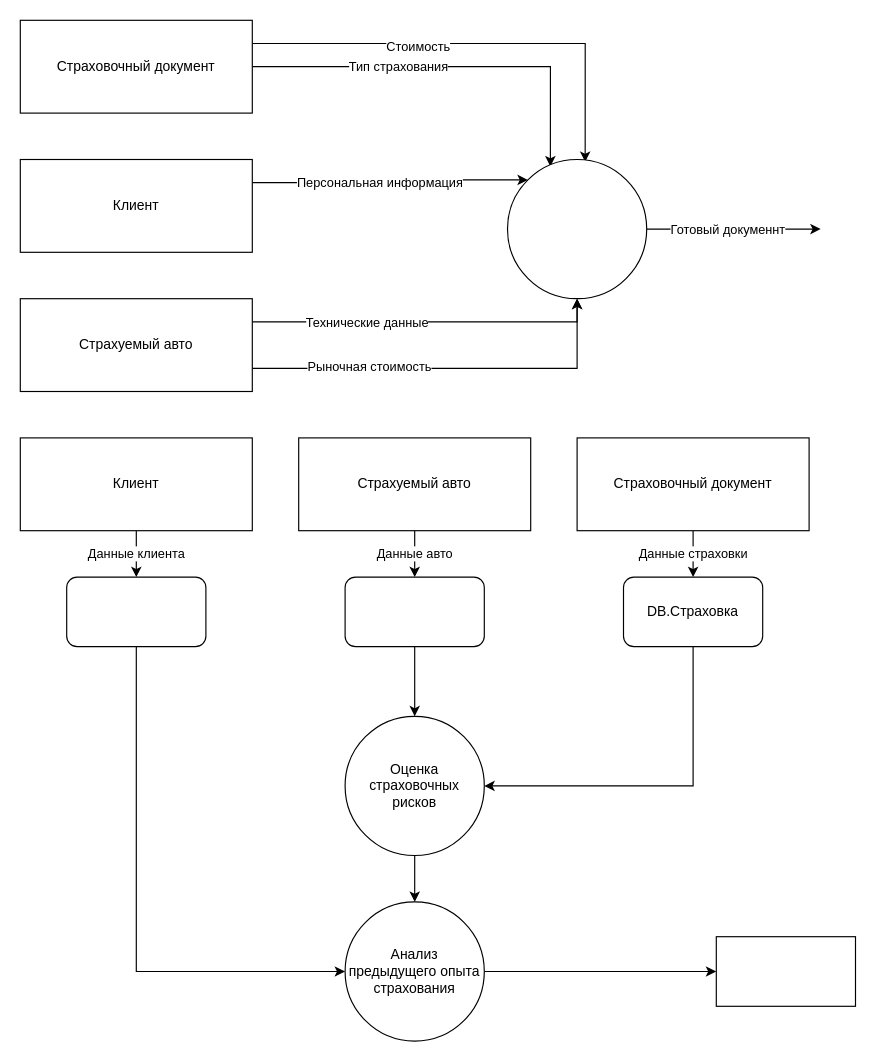
Some shapes in this 876 by 1061 pixel diagram are drawn without their labels. Each missing label, with the box of its shape:
DB.Автомобиль: (344, 576, 484, 647)
DB.Клиент: (66, 576, 206, 647)
Готовый документ: (715, 936, 855, 1006)
Страхование: (506, 158, 647, 299)
